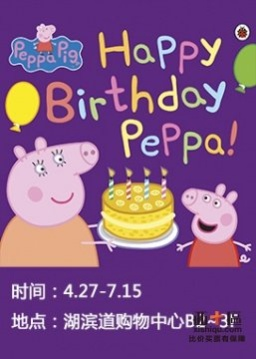Peppa: (178, 184, 251, 272)
